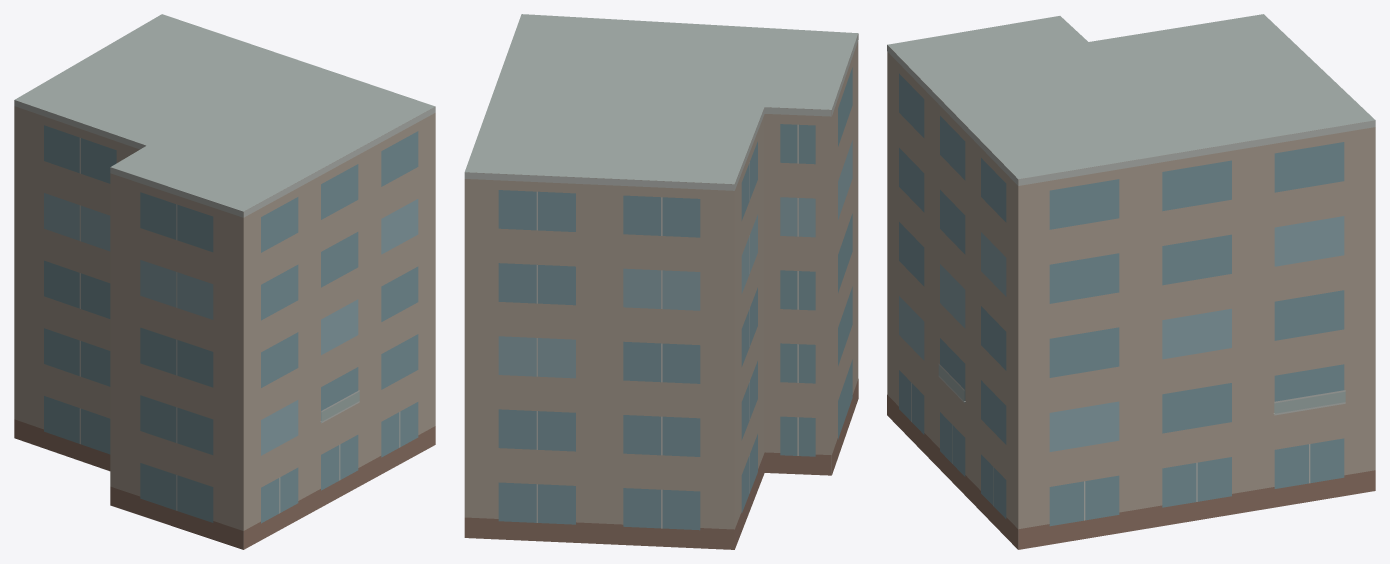
The model's file is survey-upis-32853885.glb.
The picture shows the model from 3 angles, left to right: view 1: azimuth 30°, elevation 25°; view 2: azimuth 150°, elevation 25°; view 3: azimuth 270°, elevation 25°; orthographic projection. The views are drawn at different scales.
Parts seen in each view (by area): view 1: survey-upis-32853885.tmp; view 2: survey-upis-32853885.tmp; view 3: survey-upis-32853885.tmp.
Part boxes in pixels (x1,y1,x2,y2): survey-upis-32853885.tmp: (14,14,435,549); survey-upis-32853885.tmp: (464,14,858,549); survey-upis-32853885.tmp: (887,14,1375,549).
Size of the model in its own units: 12.83 by 13.4 by 16.02.
